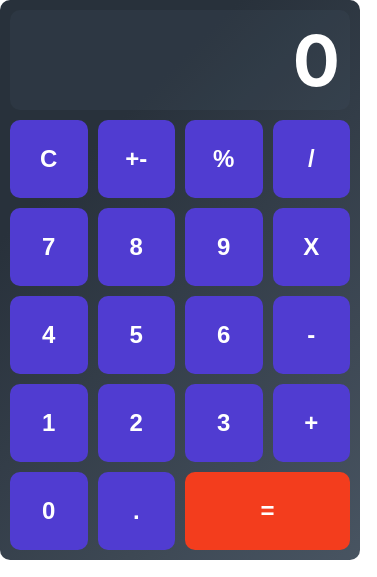
Scenario: CalculatorV2 › number input builds multi-digit numbers
Click the button "1": (49, 423) 10,384 -> 88,462
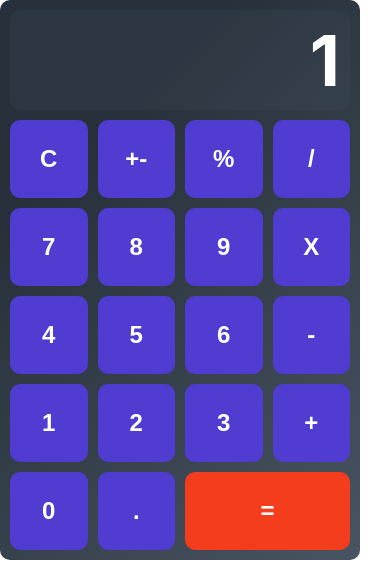
Click the button "2": (136, 423) 98,384 -> 175,462
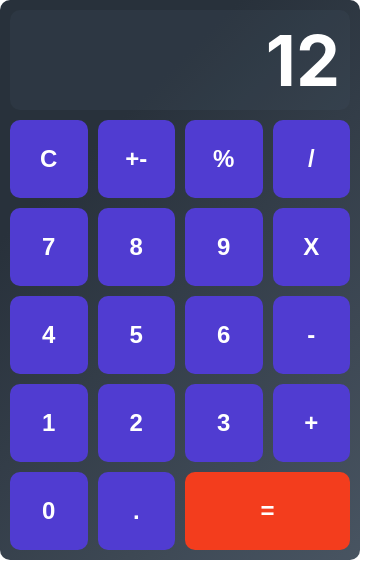
Click the button "3": (224, 423) 185,384 -> 262,462
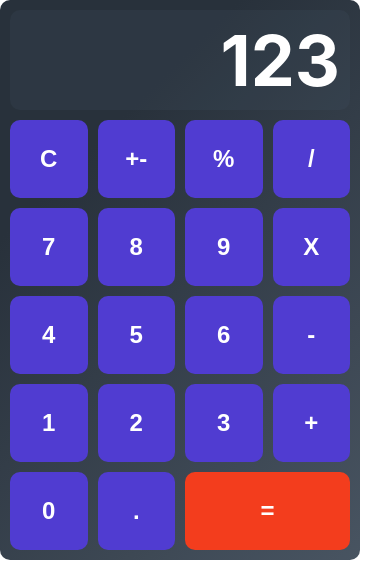
expect the text with class "responsive-text" reads "123": met, box 220,18 -> 340,102
